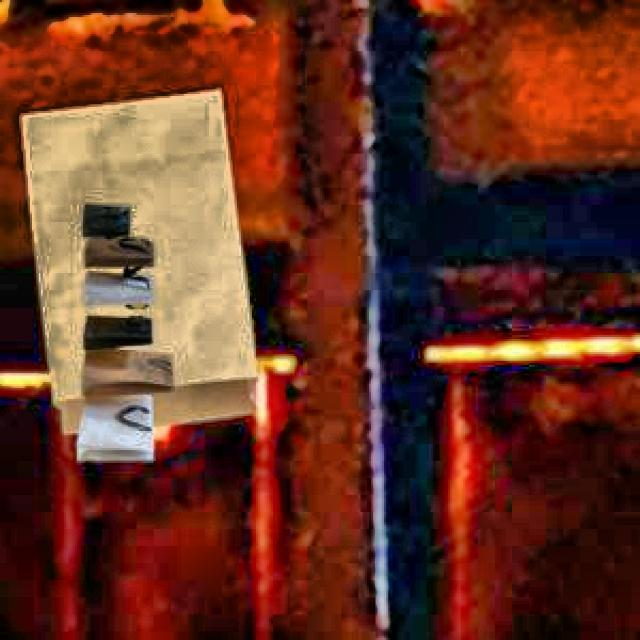Paper-bag: (11, 86, 282, 474)
